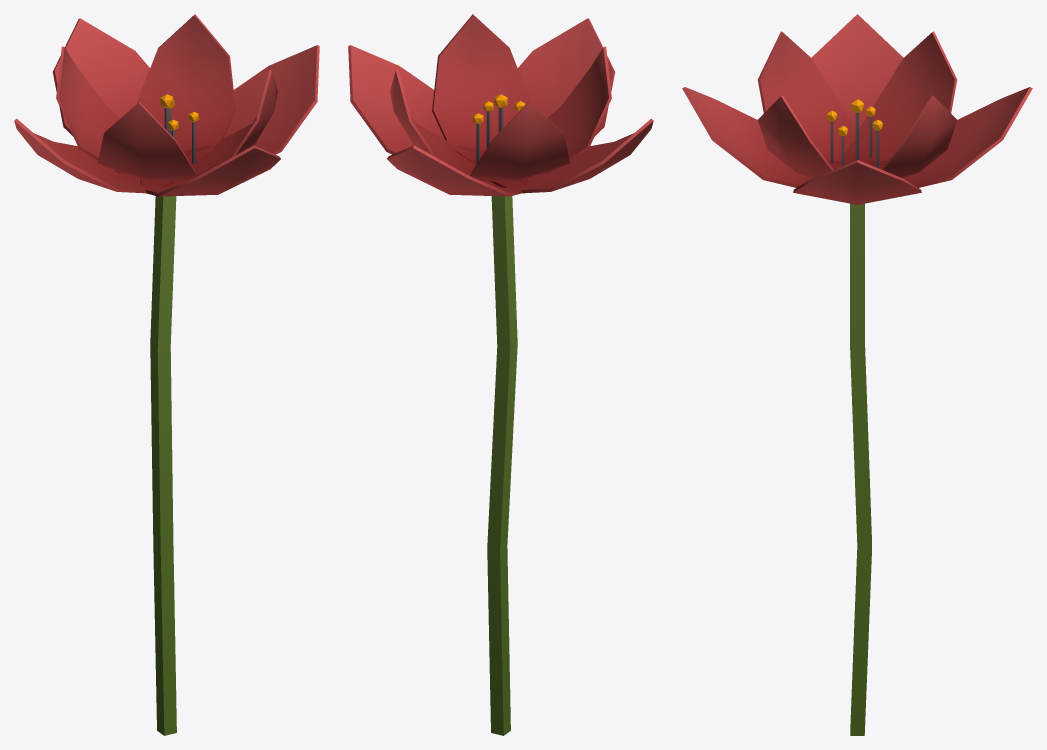
Rendered from PondPlant_03.fbx.
The picture shows the model from 3 angles, left to right: view 1: azimuth 30°, elevation 25°; view 2: azimuth 150°, elevation 25°; view 3: azimuth 270°, elevation 25°; orthographic projection.
Visible parts, largest first — view 1: PondPlant_03_LOD0; view 2: PondPlant_03_LOD0; view 3: PondPlant_03_LOD0.
Boxes of the visible parts, <box> form: PondPlant_03_LOD0: <box>14,14,319,735</box>; PondPlant_03_LOD0: <box>348,14,653,735</box>; PondPlant_03_LOD0: <box>682,14,1032,735</box>.
Size of what is drawn, in the model's own units: 0.2557 by 0.5383 by 0.2557.
